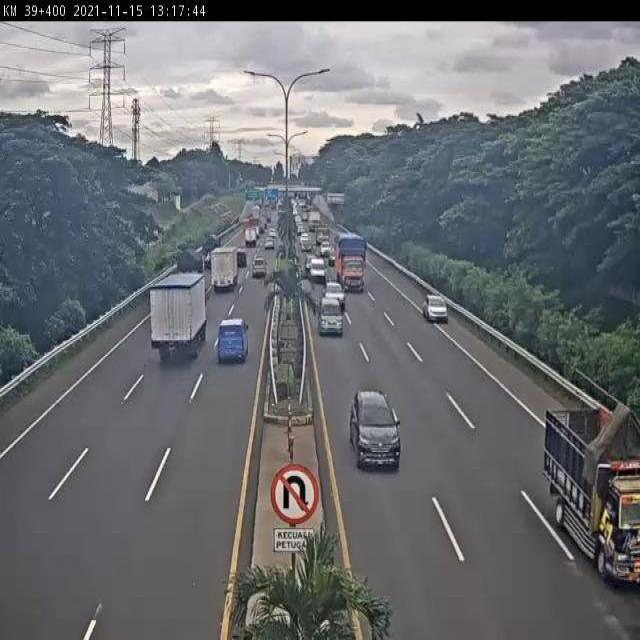car: (348, 388, 402, 472), (315, 295, 346, 337), (421, 292, 451, 324), (321, 279, 345, 309), (309, 257, 329, 283), (252, 253, 268, 279)
small truck: (216, 316, 251, 363)
truck-m-: (543, 393, 640, 588), (148, 271, 209, 365), (335, 233, 373, 296), (207, 245, 243, 296)
